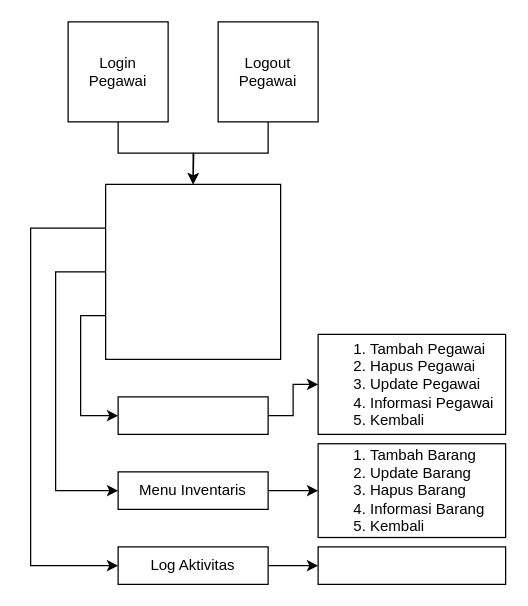
This 528x606 diagram has some shape labels left out. Each missing label, with the centre of its shape:
Melihat Log Aktivitas: (411,565)
Menu Pegawai: (192,415)
Menu Pegawai Menu Inventaris Log Aktivitas Keluar: (192,271)
